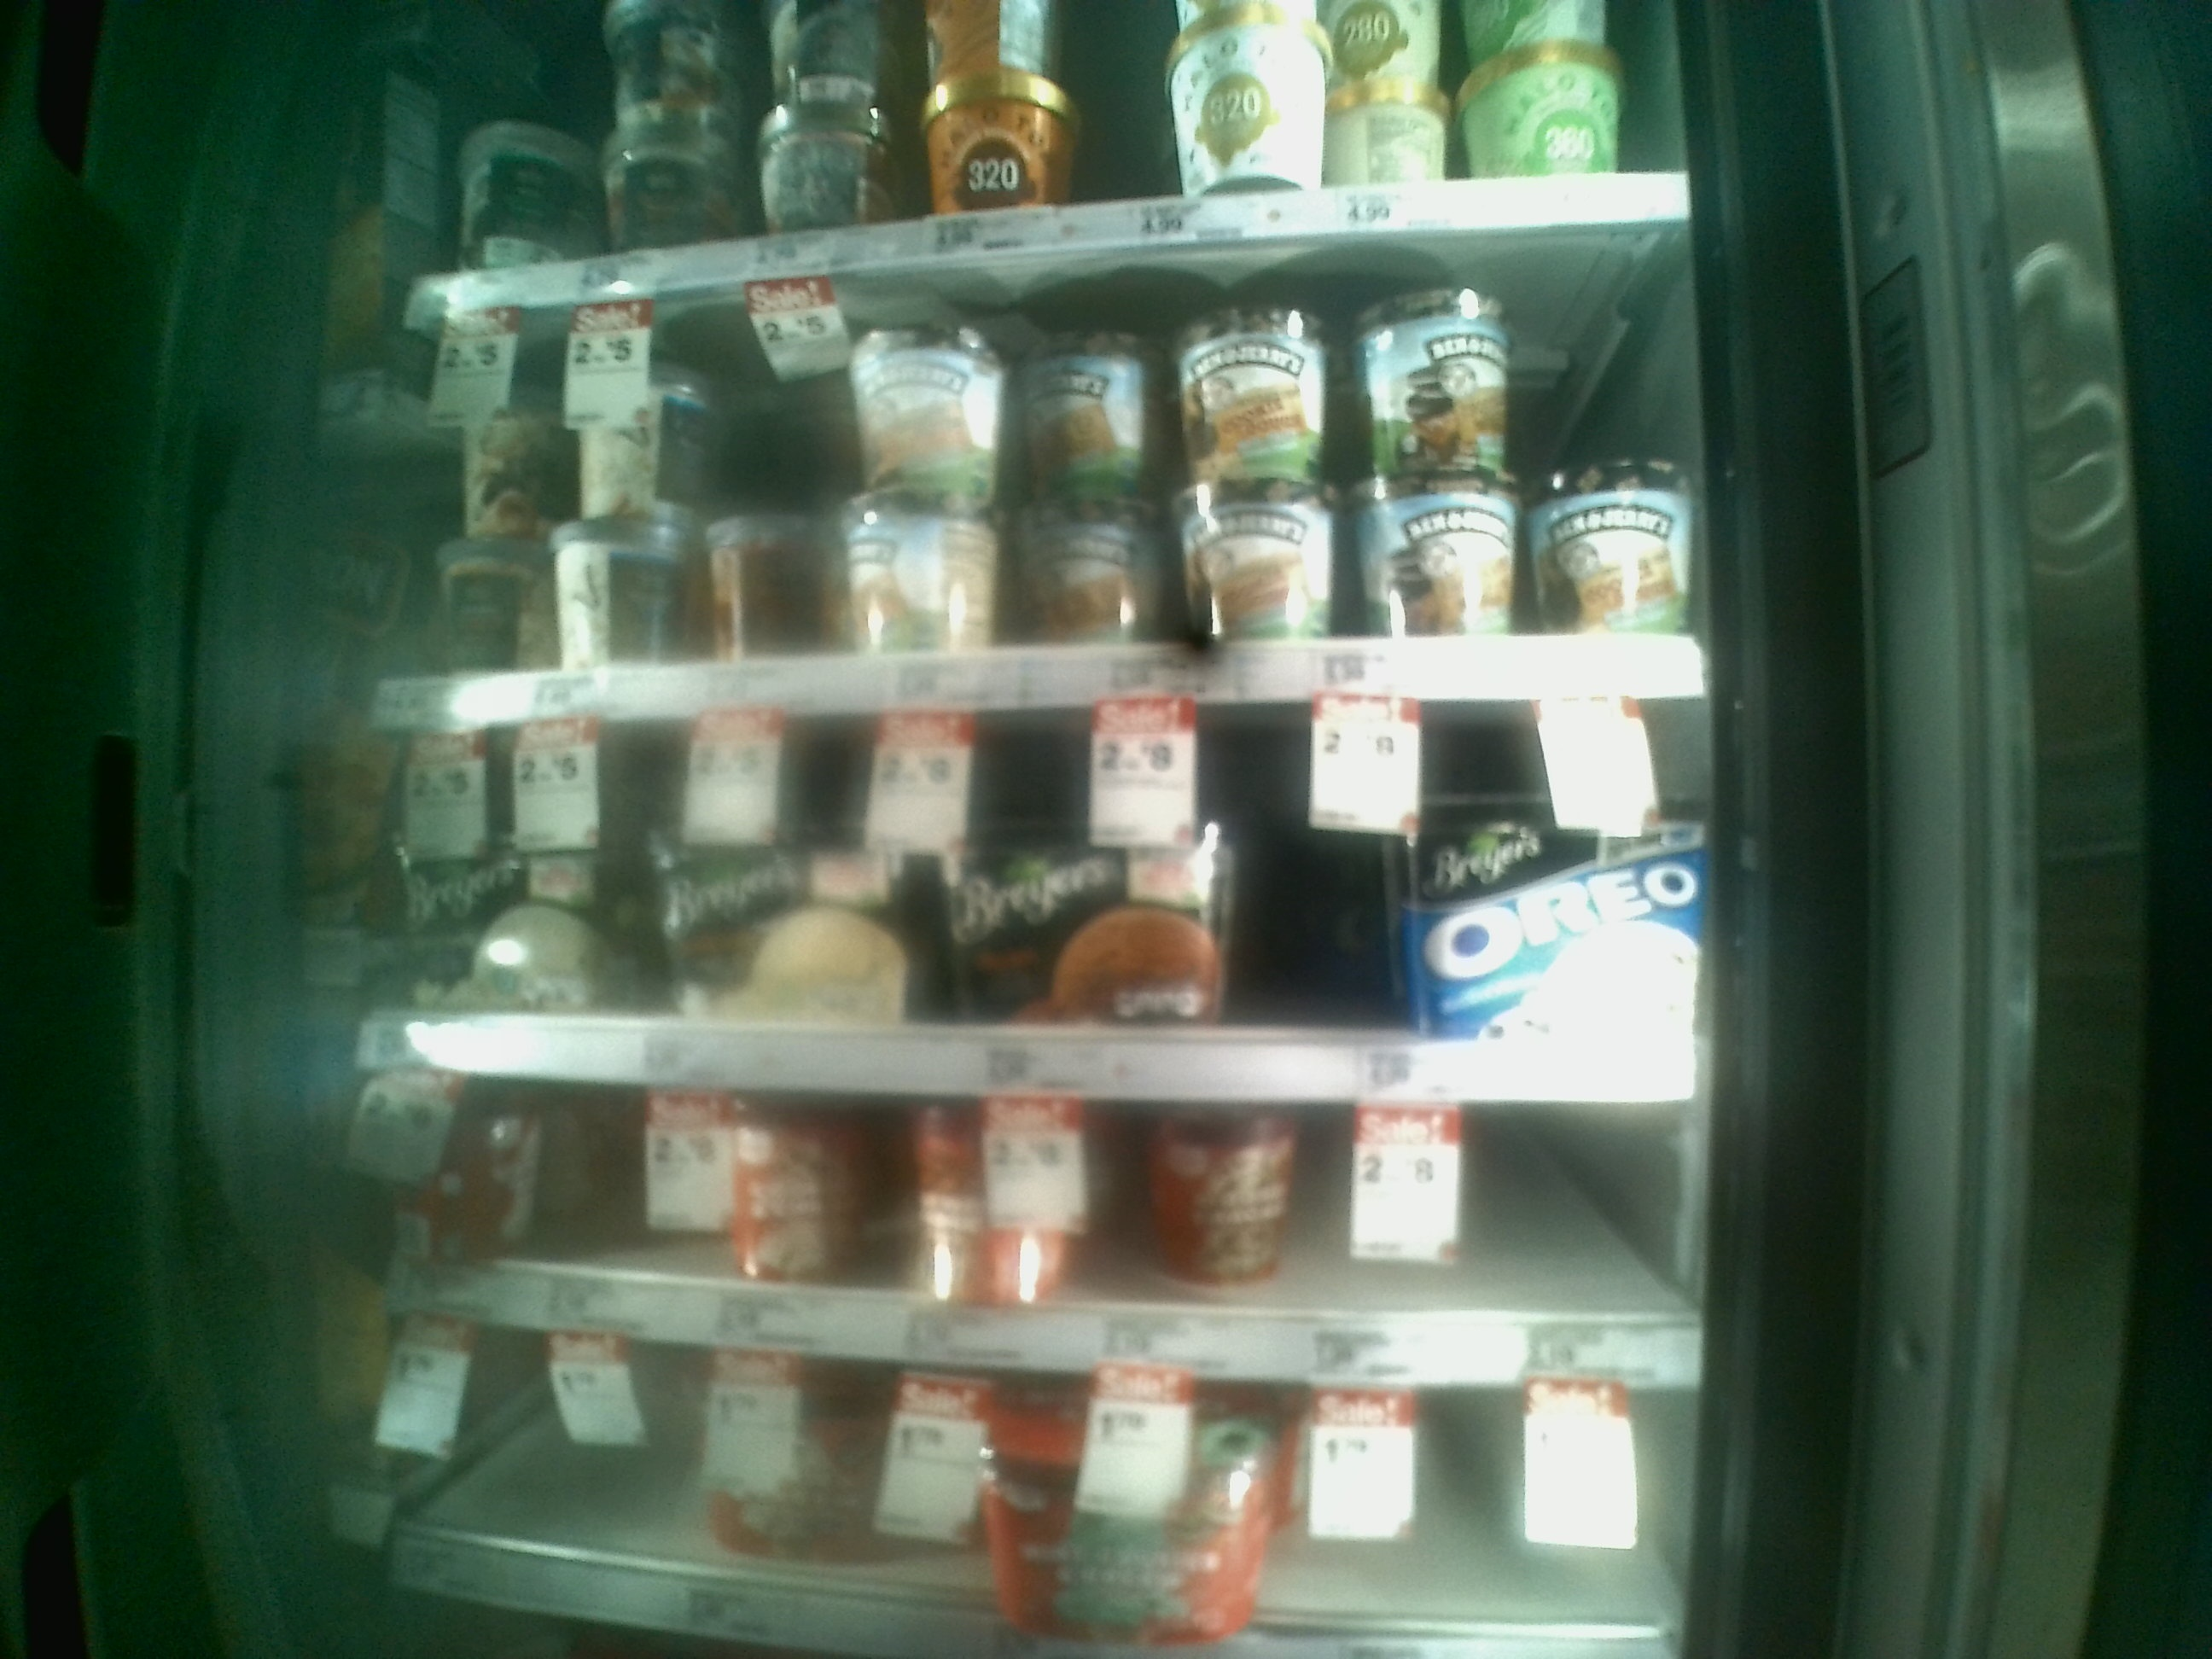shelf: (387, 216, 1730, 713), (380, 718, 1721, 1114), (395, 1086, 1716, 1389)
